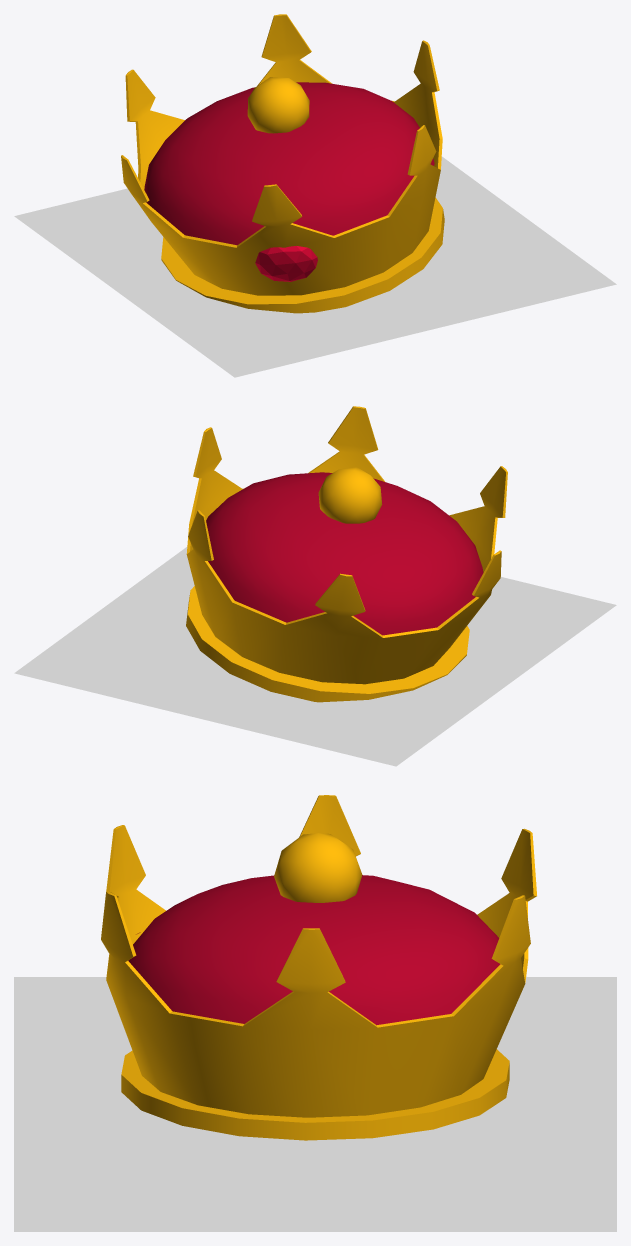
The model's file is Crown.fbx.
3 renders of one model, top to bottom at view 1: azimuth 30°, elevation 25°; view 2: azimuth 150°, elevation 25°; view 3: azimuth 270°, elevation 25°, orthographic. The views are drawn at different scales.
Parts seen in each view (by area): view 1: Crown, CrownEmpty; view 2: Crown, CrownEmpty; view 3: Crown, CrownEmpty.
Boxes of the visible parts, left/top/right/bottom form: Crown: left=121, top=14, right=444, bottom=313; CrownEmpty: left=14, top=156, right=616, bottom=377; Crown: left=186, top=406, right=507, bottom=702; CrownEmpty: left=14, top=547, right=616, bottom=766; Crown: left=101, top=795, right=536, bottom=1140; CrownEmpty: left=14, top=977, right=616, bottom=1231.
Size of the model in its own units: 14.41 by 6.97 by 14.41.
